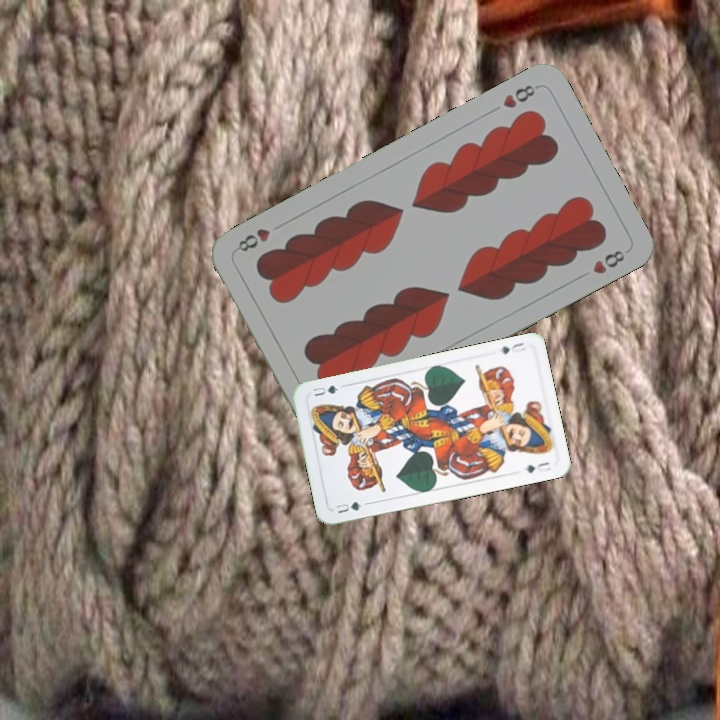GU: (332, 497, 364, 516), (497, 338, 528, 356)
H8: (498, 80, 541, 111)
